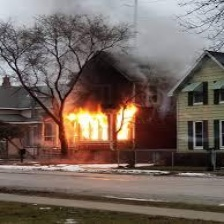fire: (67, 105, 141, 144)
smoke: (73, 2, 198, 95)
